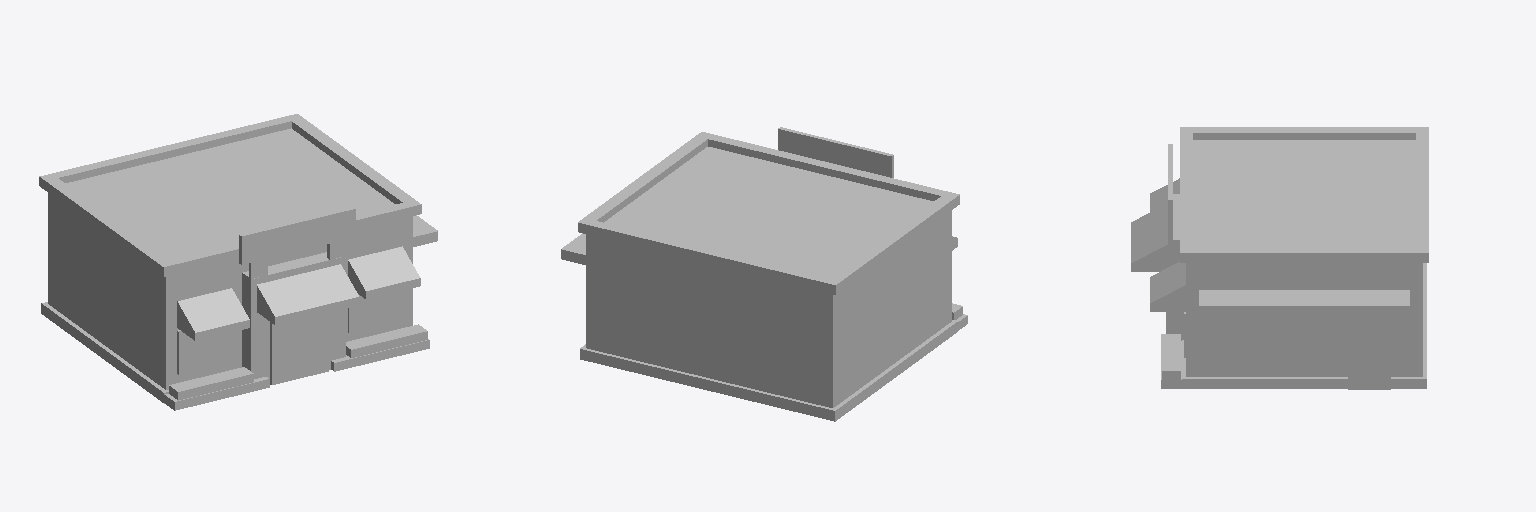
The model's file is Building_Pizza.obj.
The picture shows the model from 3 angles: view 1: azimuth 30°, elevation 25°; view 2: azimuth 150°, elevation 25°; view 3: azimuth 270°, elevation 25°; orthographic projection.
Parts seen in each view (by area): view 1: Building_Pizza; view 2: Building_Pizza; view 3: Building_Pizza.
Boxes of the visible parts, x1,y1,x2,y2 form: Building_Pizza: [39, 114, 437, 410]; Building_Pizza: [561, 127, 967, 421]; Building_Pizza: [1131, 127, 1428, 389].
Bounding box in the file's own units: 589 × 307 × 534.